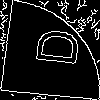D: (25, 25, 81, 68)
